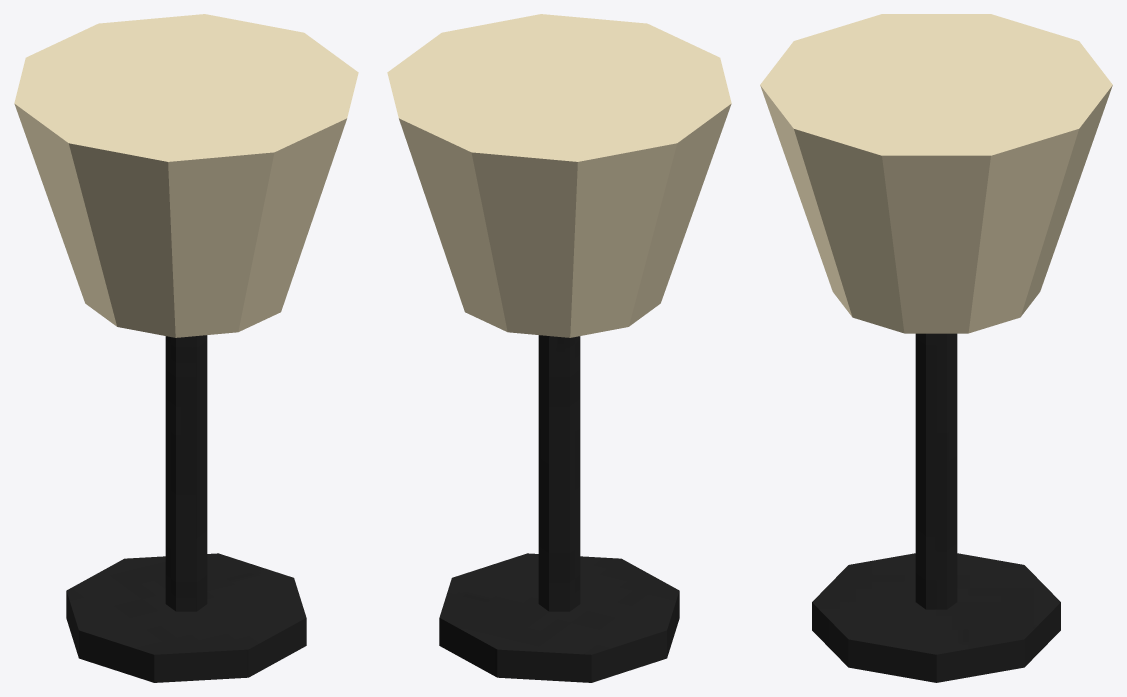
The model's file is table_lamp_01.glb.
3 renders of one model, left to right at view 1: azimuth 30°, elevation 25°; view 2: azimuth 150°, elevation 25°; view 3: azimuth 270°, elevation 25°, orthographic.
Parts seen in each view (by area): view 1: table_lamp_01; view 2: table_lamp_01; view 3: table_lamp_01.
Boxes of the visible parts, x1,y1,x2,y2 form: table_lamp_01: (14,14,358,682); table_lamp_01: (387,14,731,682); table_lamp_01: (760,14,1112,682).
Bounding box in the file's own units: 0.3234 × 0.58 × 0.34.
2 materials, 1 textured.
